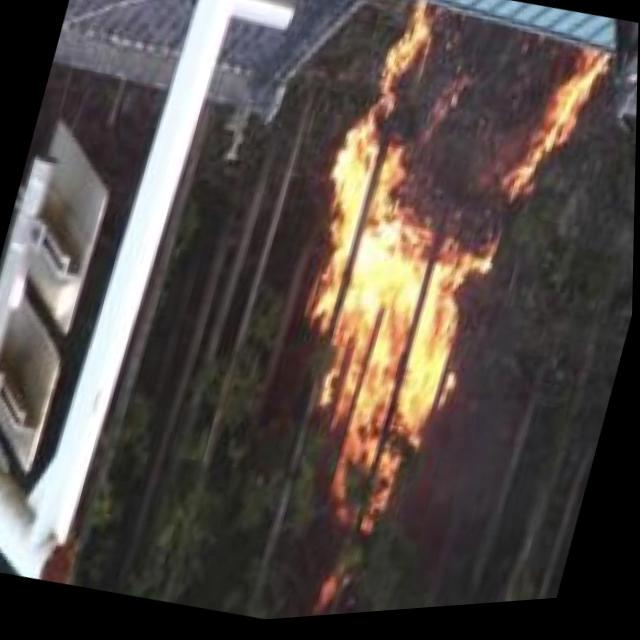fire: (248, 1, 608, 564)
